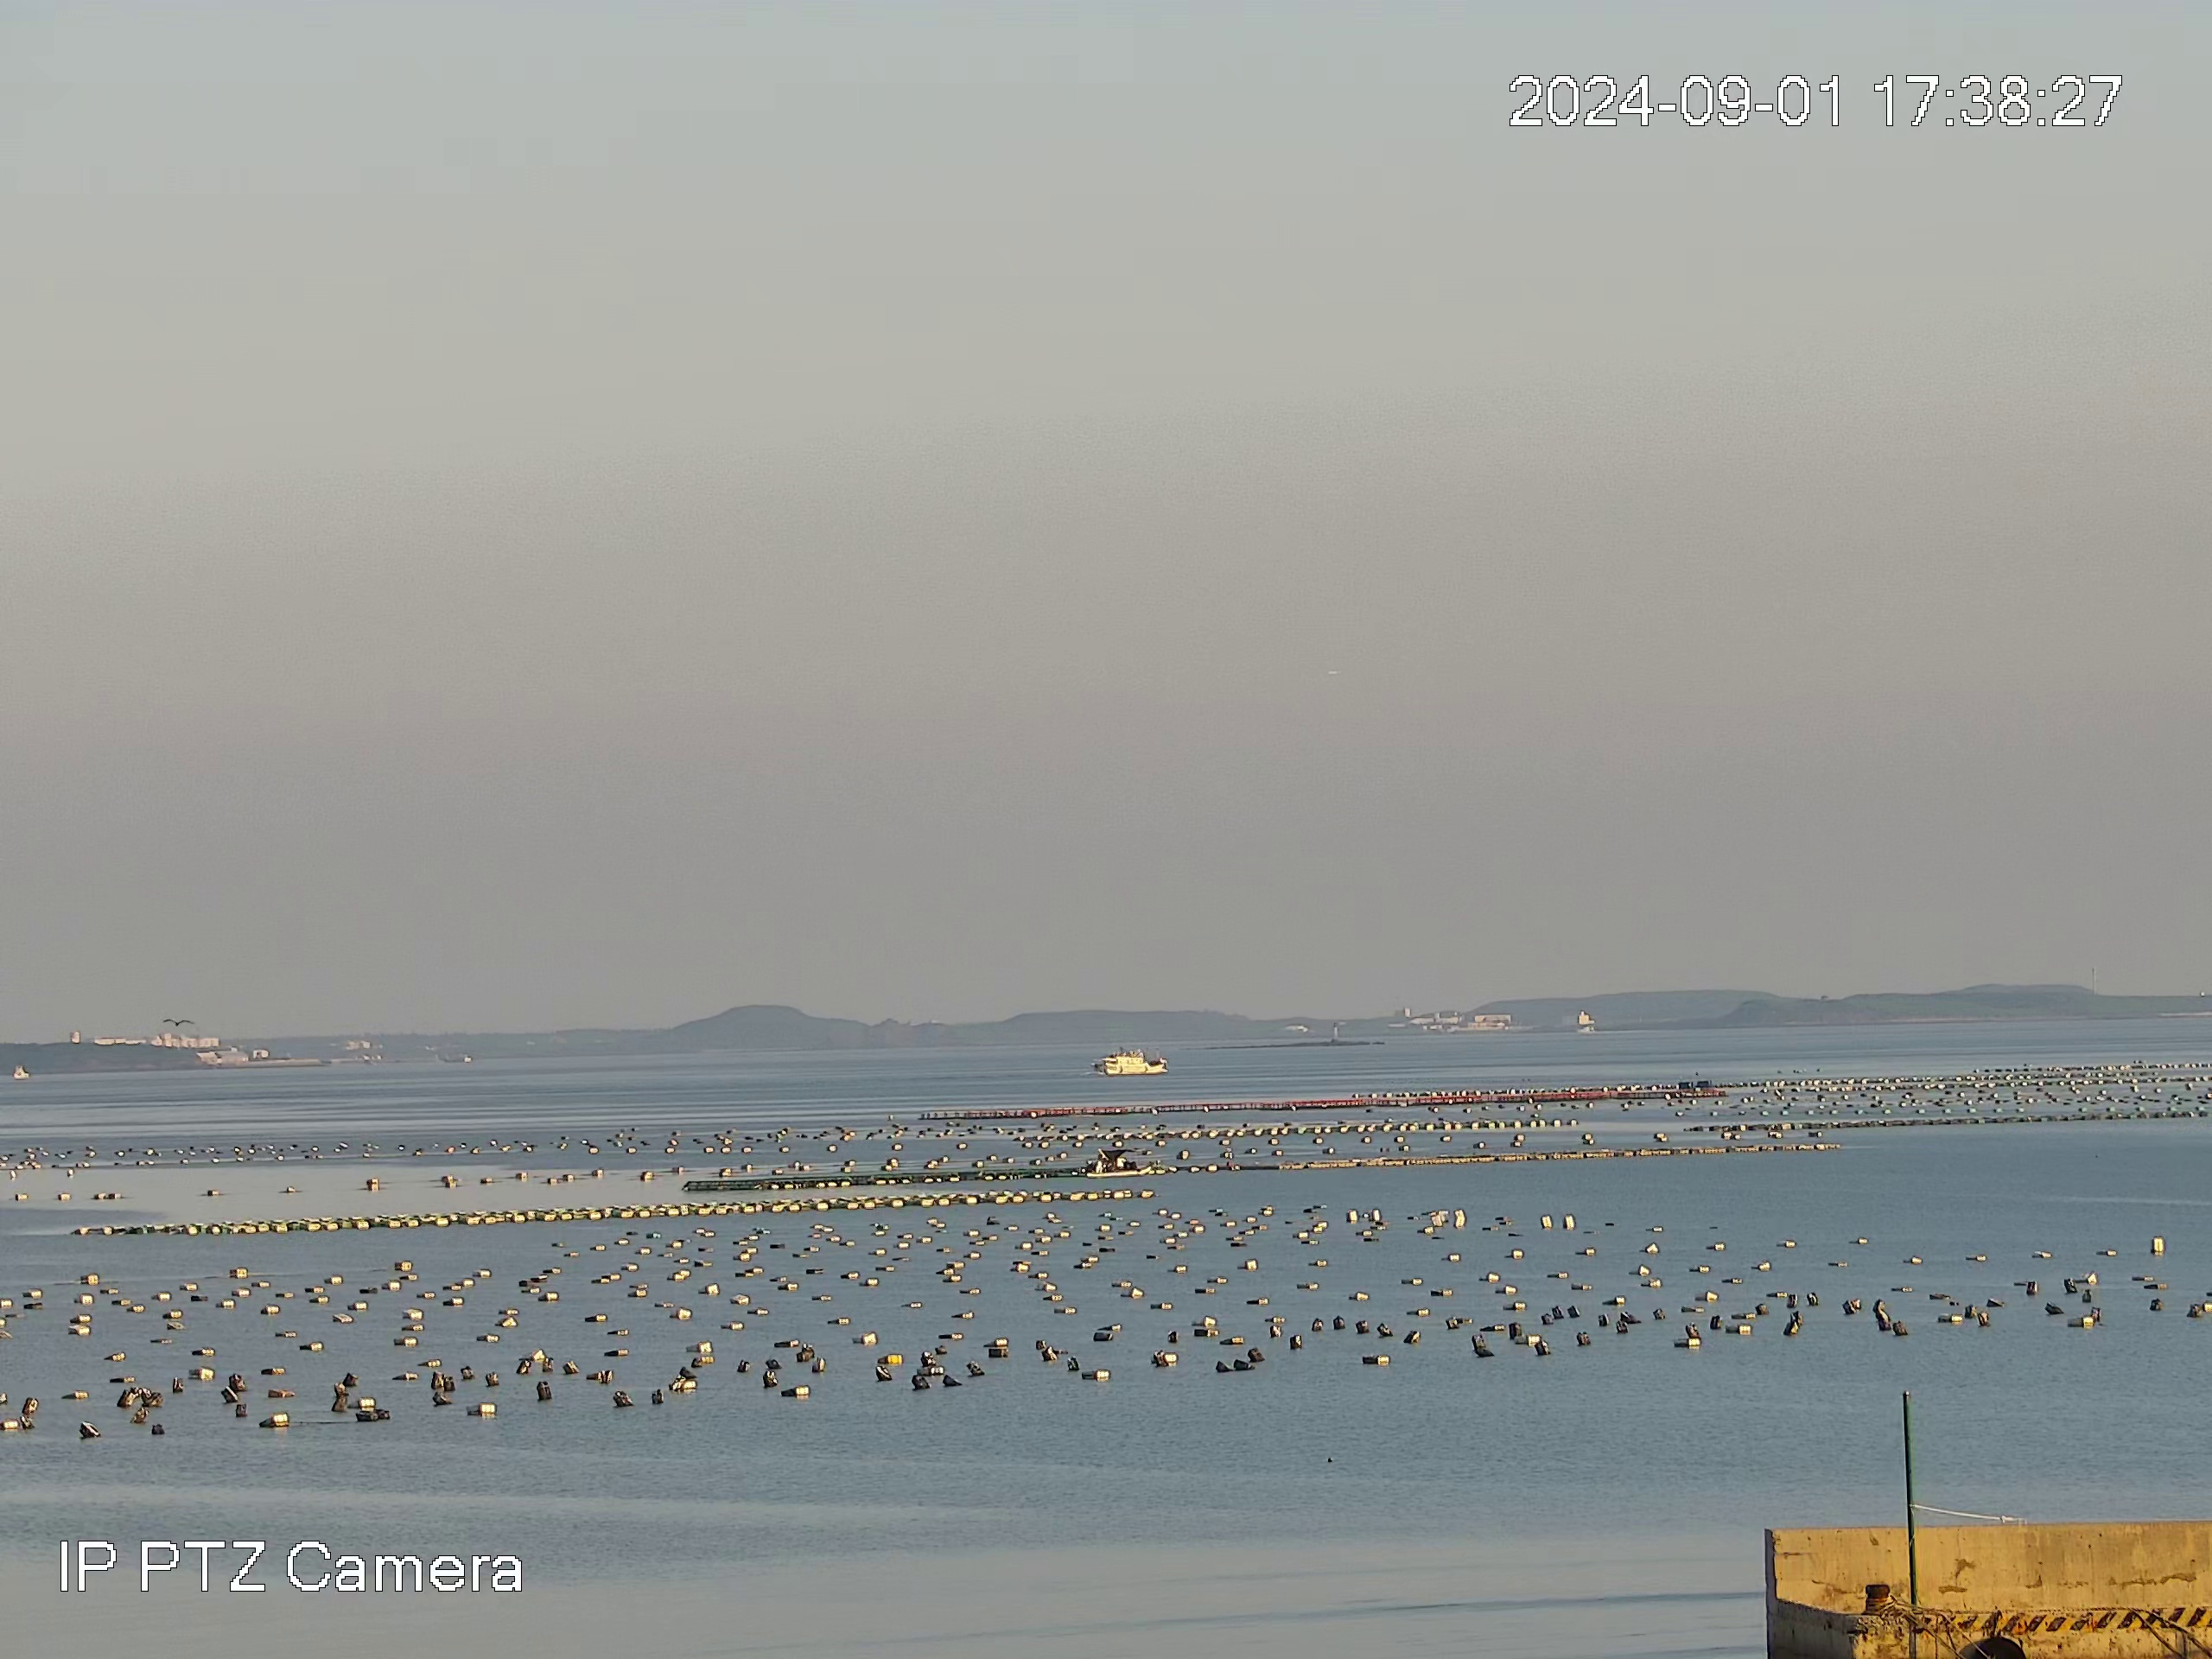boat: (1094, 1048, 1169, 1076), (1086, 1147, 1153, 1177)
